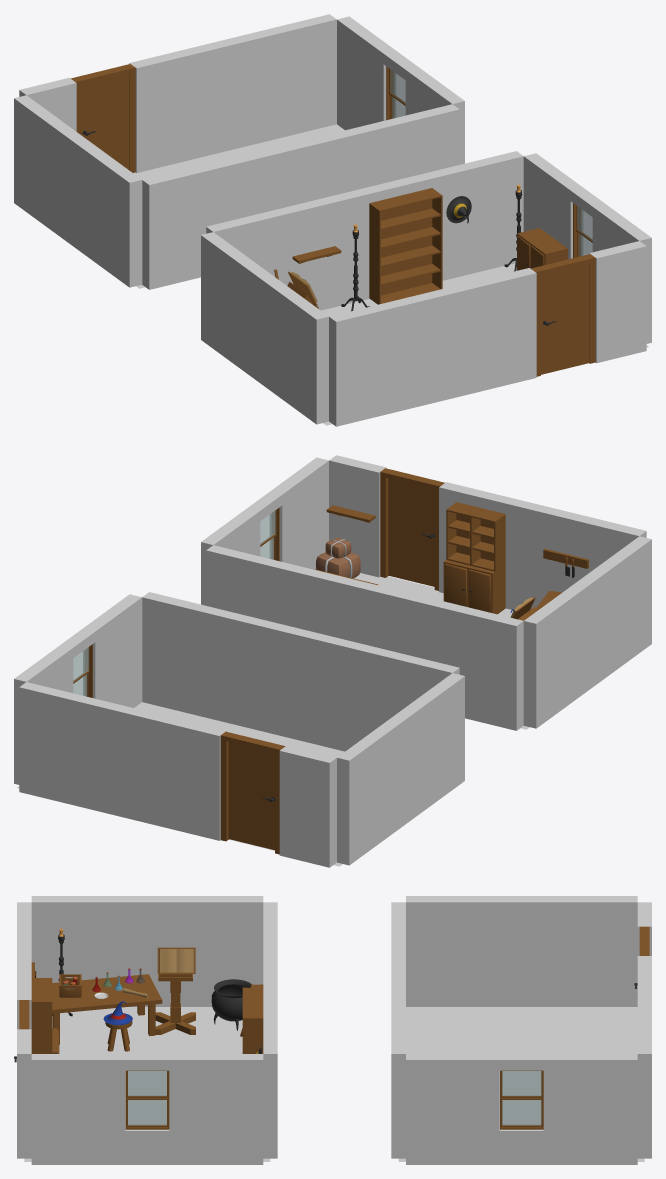
The model's file is Room_template.fbx.
3 views of the same model, one above another, from view 1: azimuth 30°, elevation 25°; view 2: azimuth 150°, elevation 25°; view 3: azimuth 270°, elevation 25° (orthographic).
Parts seen in each view (by area): view 1: Cube.028, Cube.003, Cube, Cube.030, Cube.004, Cube.032, Cube.001, Bookshelf.001, Cube.029, Cube.031, Door.001, Door (+8 smaller); view 2: Cube.003, Cube.030, Cube, Cube.032, Cube.004, Cube.028, Cube.001, Cube.029, Cube.017, Cube.031, Door, Door.001 (+10 smaller); view 3: Cube.004, Cube.029, Cube.001, Cube.032, Plane.001, Plane.002, Cube.003, Cube.030, table.001, Cube, Cube.031, Cupboard.001 (+12 smaller).
Part boxes in pixels (left/top/right/bottom): Cube.028: left=329, top=268, right=536, bottom=426; Cube.003: left=142, top=104, right=459, bottom=289; Cube: left=129, top=14, right=336, bottom=172; Cube.030: left=206, top=151, right=523, bottom=310; Cube.004: left=14, top=95, right=142, bottom=287; Cube.032: left=201, top=232, right=328, bottom=424; Cube.001: left=337, top=16, right=464, bottom=164; Bookshelf.001: left=369, top=188, right=442, bottom=304; Cube.029: left=523, top=153, right=651, bottom=343; Cube.031: left=589, top=241, right=646, bottom=363; Door.001: left=541, top=263, right=589, bottom=374; Door: left=81, top=73, right=129, bottom=170; Cube.003: left=142, top=592, right=459, bottom=751; Cube.030: left=206, top=545, right=523, bottom=730; Cube: left=19, top=682, right=226, bottom=840; Cube.032: left=523, top=536, right=651, bottom=728; Cube.004: left=337, top=673, right=464, bottom=865; Cube.028: left=439, top=482, right=646, bottom=609; Cube.001: left=14, top=594, right=142, bottom=784; Cube.029: left=201, top=457, right=328, bottom=605; Cube.017: left=279, top=745, right=336, bottom=867; Cube.031: left=329, top=455, right=386, bottom=577; Door: left=228, top=742, right=274, bottom=850; Door.001: left=388, top=478, right=434, bottom=586; Cube.004: left=406, top=896, right=637, bottom=1006; Cube.029: left=31, top=1054, right=263, bottom=1164; Cube.001: left=406, top=1054, right=637, bottom=1164; Cube.032: left=31, top=896, right=263, bottom=1006; Plane.001: left=398, top=1007, right=644, bottom=1161; Plane.002: left=24, top=1007, right=270, bottom=1161; Cube.003: left=391, top=902, right=405, bottom=1158; Cube.030: left=263, top=902, right=277, bottom=1158; table.001: left=52, top=974, right=162, bottom=1044; Cube: left=637, top=956, right=651, bottom=1158; Cube.031: left=17, top=1029, right=31, bottom=1158; Cupboard.001: left=31, top=978, right=57, bottom=1053.
Bounding box in the file's own units: 670 × 200 × 1102.
